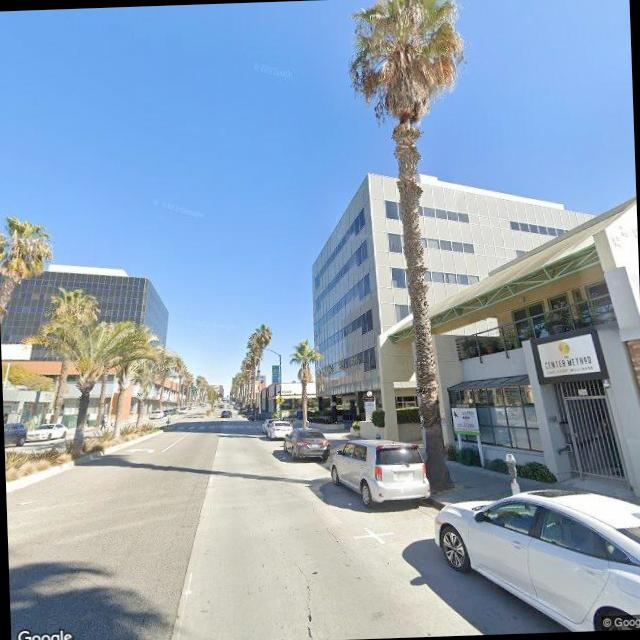pothole: (293, 557, 324, 640)
